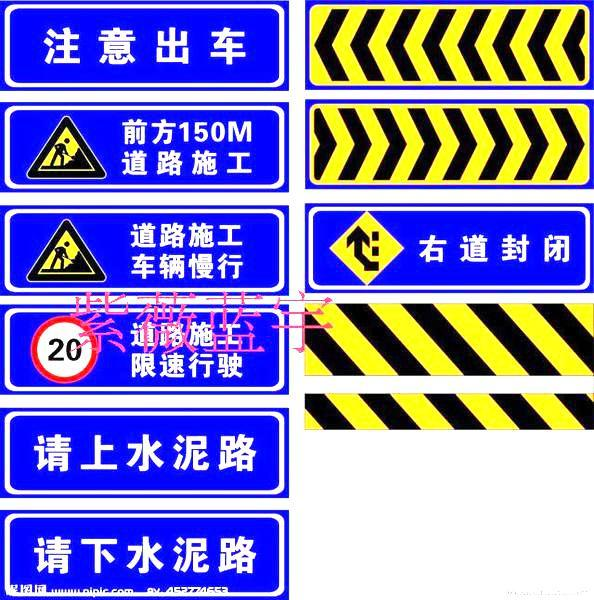sign: (1, 203, 285, 291), (1, 307, 286, 394), (2, 105, 282, 190), (308, 2, 592, 85), (311, 206, 589, 289), (5, 4, 285, 86), (309, 102, 590, 183)
